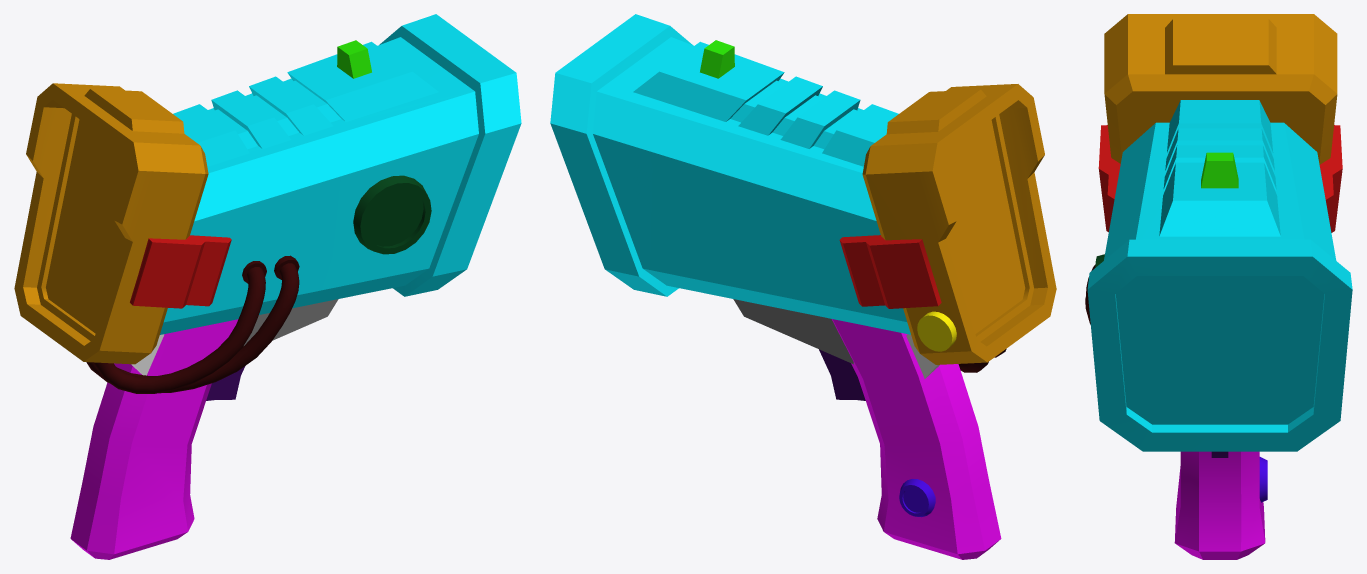
File: scanner.glb
3 renders of one model, left to right at view 1: azimuth 30°, elevation 25°; view 2: azimuth 150°, elevation 25°; view 3: azimuth 270°, elevation 25°, orthographic. The views are drawn at different scales.
Visible parts, largest first — view 1: base_low, screen_low, handle_low, screen support_low, side cylinder_low, vamzdis 2_low, vamzdis 1_low, trigger_support_low, scope_low, trigger_low; view 2: base_low, screen_low, handle_low, screen support 2_low, trigger_support_low, mygtukas_low, trigger_low, handle cylinder, scope_low; view 3: base_low, screen_low, handle_low, screen support 2_low, screen support_low, scope_low, handle cylinder.
Part boxes in pixels (x1,y1,x2,y2): base_low: [160, 14, 521, 334]; screen_low: [14, 83, 208, 364]; handle_low: [70, 319, 238, 559]; screen support_low: [130, 235, 231, 308]; side cylinder_low: [353, 175, 431, 254]; vamzdis 2_low: [93, 261, 266, 393]; vamzdis 1_low: [86, 255, 299, 393]; trigger_support_low: [244, 299, 338, 345]; scope_low: [337, 40, 371, 78]; trigger_low: [206, 366, 245, 400]; base_low: [550, 14, 910, 334]; screen_low: [862, 84, 1056, 364]; handle_low: [831, 319, 1001, 559]; screen support 2_low: [839, 235, 941, 308]; trigger_support_low: [733, 299, 853, 364]; mygtukas_low: [917, 311, 956, 351]; trigger_low: [819, 349, 865, 400]; handle cylinder: [899, 479, 935, 517]; scope_low: [700, 40, 734, 78]; base_low: [1087, 100, 1352, 451]; screen_low: [1104, 14, 1337, 164]; handle_low: [1174, 451, 1265, 559]; screen support 2_low: [1319, 125, 1342, 232]; screen support_low: [1098, 125, 1120, 231]; scope_low: [1201, 152, 1238, 188]; handle cylinder: [1259, 457, 1267, 502].
Bounding box in the file's own units: 0.046 × 0.0461 × 0.0218.
